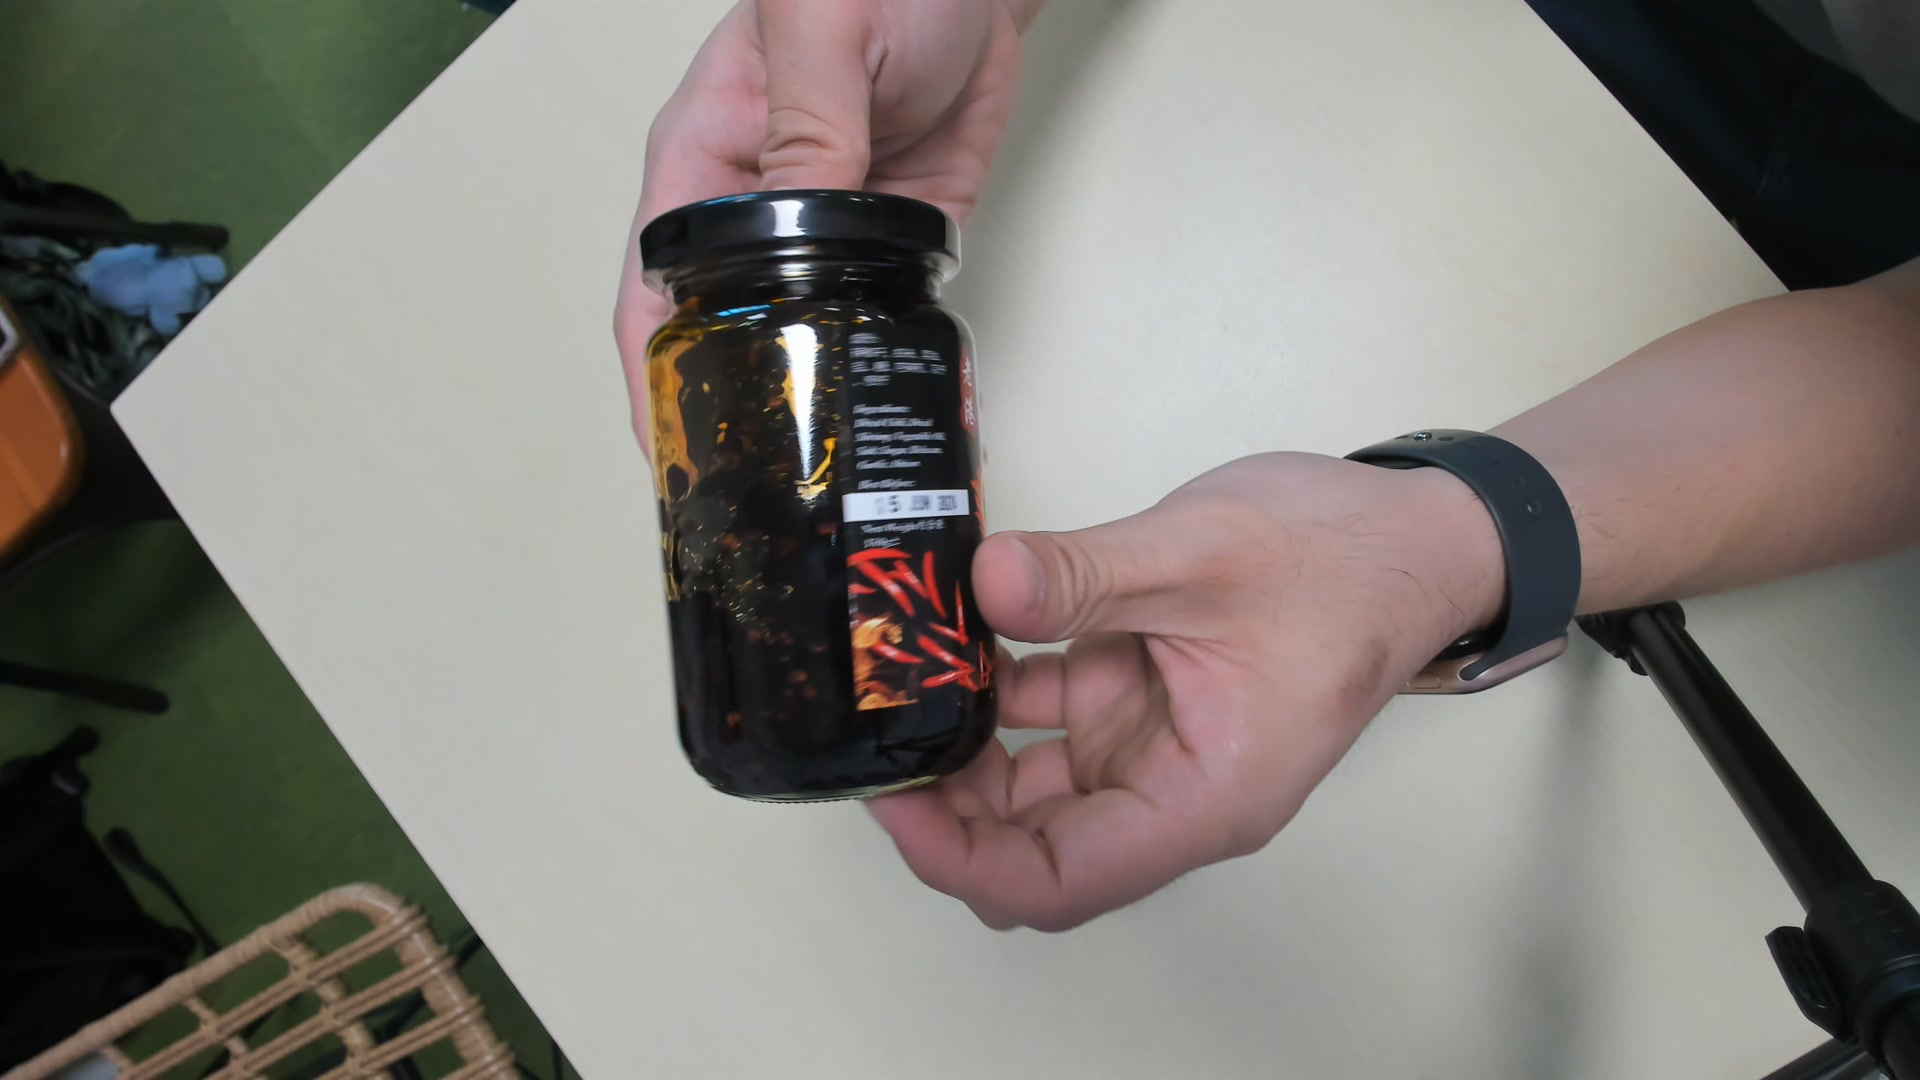OtherSauceDressing_300-399g_NonHalal_NonHealthy: (630, 183, 1004, 808)
